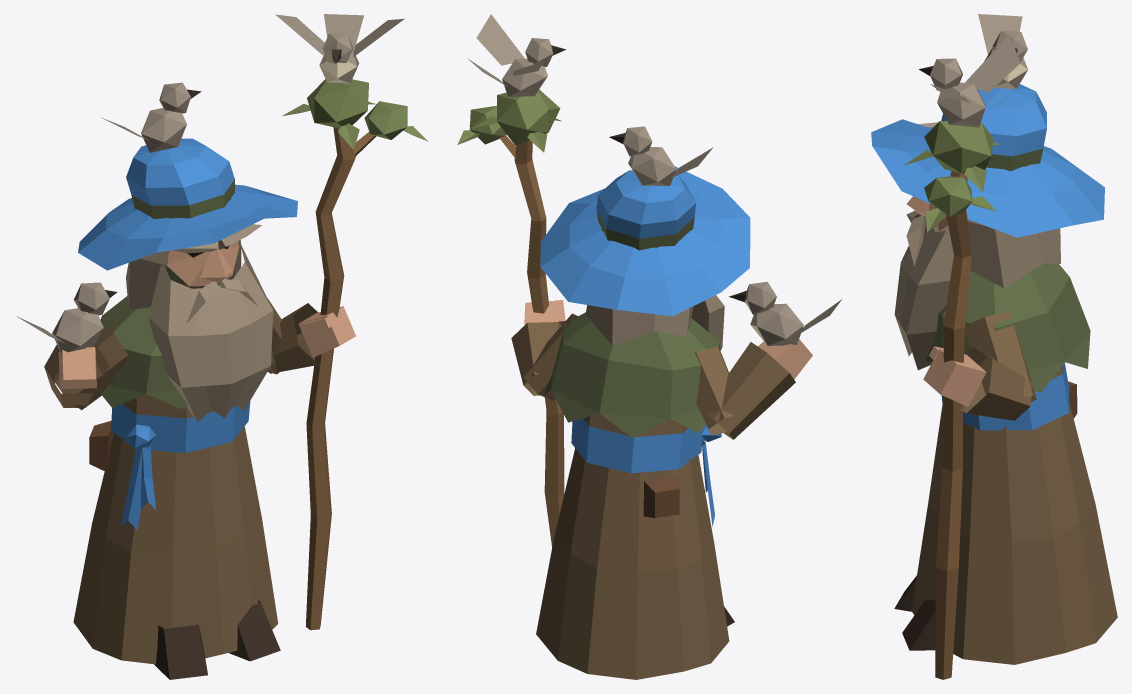
File: radagast.glb
3 renders of one model, left to right at view 1: azimuth 30°, elevation 25°; view 2: azimuth 150°, elevation 25°; view 3: azimuth 270°, elevation 25°, orthographic. The views are drawn at different scales.
Visible parts, largest first — view 1: radagast; view 2: radagast; view 3: radagast.
Boxes of the visible parts, bbox=[...] form: radagast: bbox=[16, 14, 427, 679]; radagast: bbox=[457, 14, 841, 679]; radagast: bbox=[871, 14, 1117, 679].
Bounding box in the file's own units: 1.38 × 1.96 × 0.6887.
